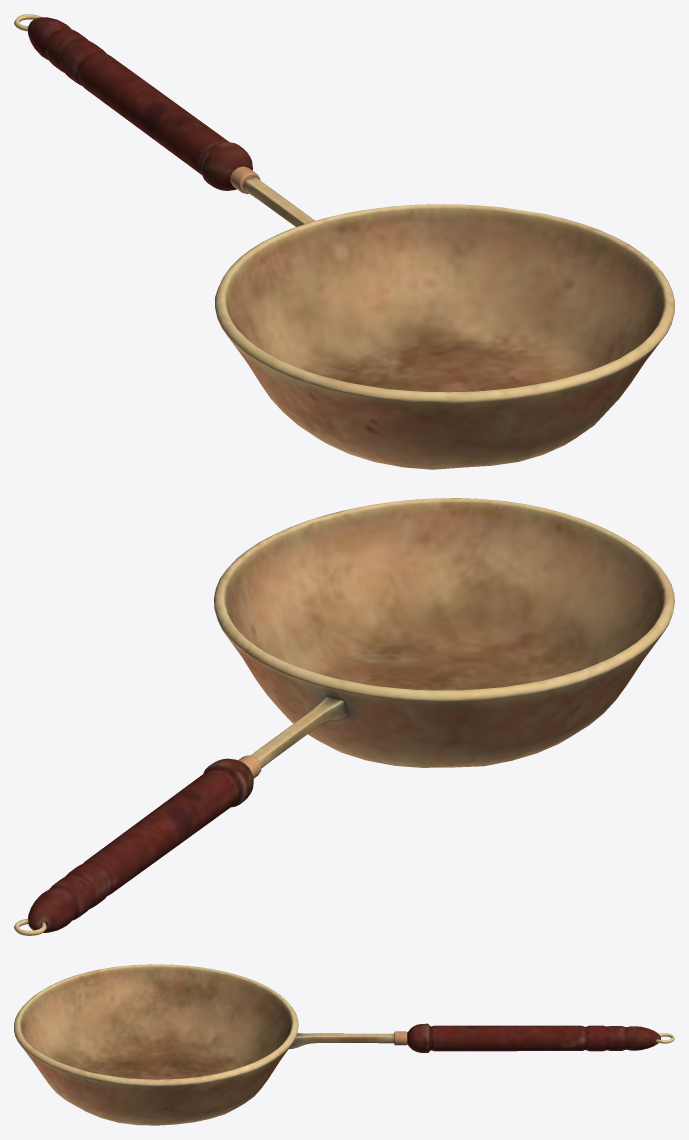
File: brass_pan_01.glb
3 renders of one model, top to bottom at view 1: azimuth 30°, elevation 25°; view 2: azimuth 150°, elevation 25°; view 3: azimuth 270°, elevation 25°, orthographic. The views are drawn at different scales.
Parts seen in each view (by area): view 1: brass_pan_01_0; view 2: brass_pan_01_0; view 3: brass_pan_01_0.
Part boxes in pixels (x1,y1,x2,y2): brass_pan_01_0: [14, 14, 674, 469]; brass_pan_01_0: [14, 498, 674, 935]; brass_pan_01_0: [14, 964, 674, 1125].
Size of the model in its own units: 0.1913 by 0.0525 by 0.4497.
1 material, 1 textured.
